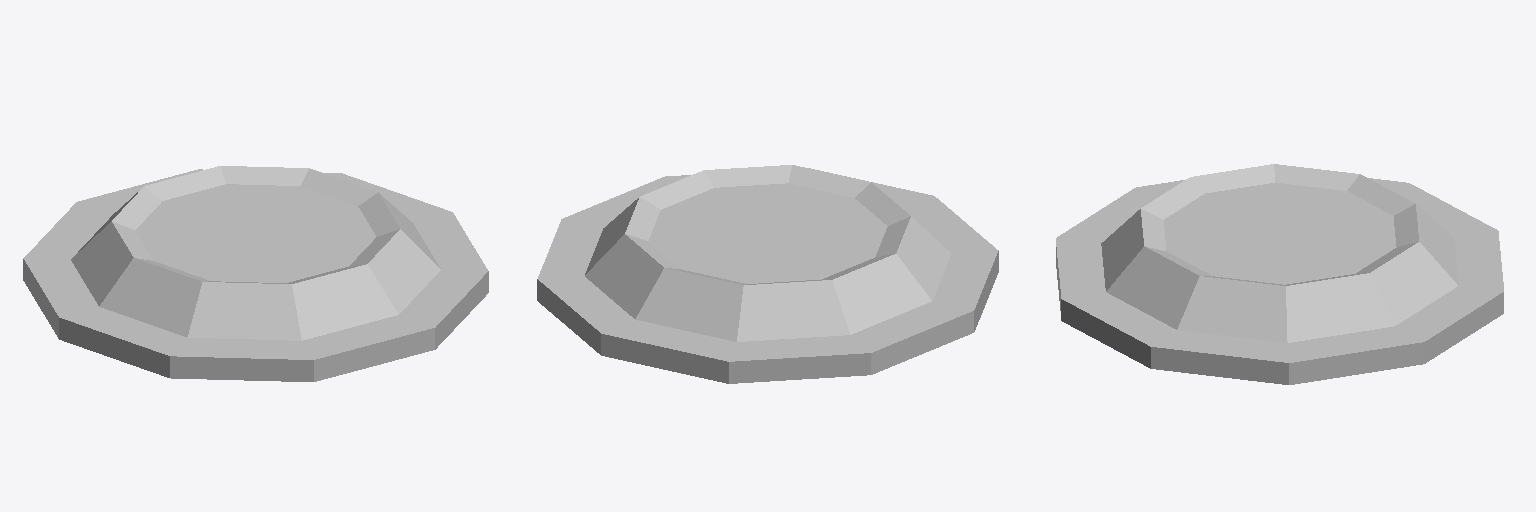
Rendered from holoDeck.obj.
The picture shows the model from 3 angles: view 1: azimuth 30°, elevation 25°; view 2: azimuth 150°, elevation 25°; view 3: azimuth 270°, elevation 25°; orthographic projection.
Parts seen in each view (by area): view 1: HoloSupport_Objet_0; view 2: HoloSupport_Objet_0; view 3: HoloSupport_Objet_0.
Part boxes in pixels (x1,y1,x2,y2): HoloSupport_Objet_0: (23,166,488,381); HoloSupport_Objet_0: (537,165,998,383); HoloSupport_Objet_0: (1056,164,1503,384).
Bounding box in the file's own units: 1.5 × 0.2199 × 1.44.